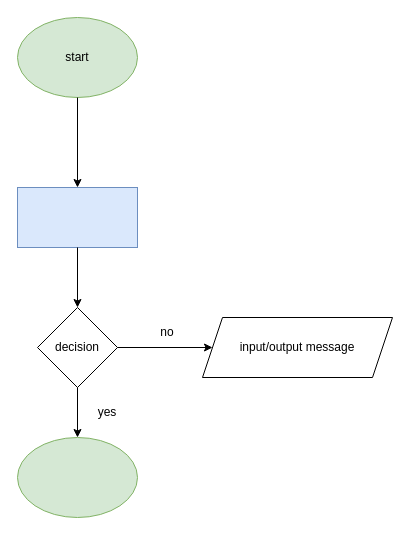
The diagram is 410 pixels wide and 535 high, and some of its shapes have lost their labels. Here are the shapes that lost their labels. From the top down, the centre of each, then its label:
At point (77, 217): "process".
At point (77, 477): "end".
